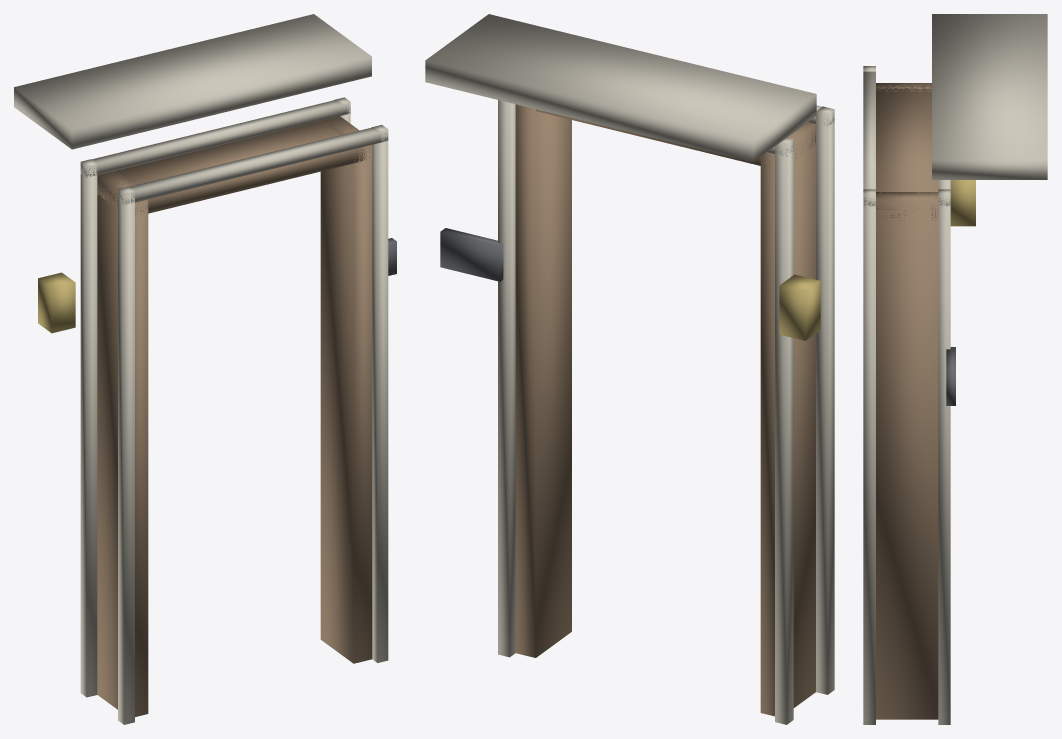
The model's file is doorway_motel_w86_h200_d24.glb.
The picture shows the model from 3 angles, left to right: view 1: azimuth 30°, elevation 25°; view 2: azimuth 150°, elevation 25°; view 3: azimuth 270°, elevation 25°; orthographic projection. The views are drawn at different scales.
Visible parts, largest first — view 1: world; view 2: world; view 3: world.
Boxes of the visible parts, x1,y1,x2,y2 form: world: (14,14,396,724); world: (425,14,834,724); world: (863,14,1047,724).
Size of the model in its own units: 1.44 by 2.3 by 0.6682.
